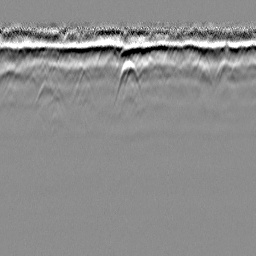cavity: (111, 59, 144, 107)
